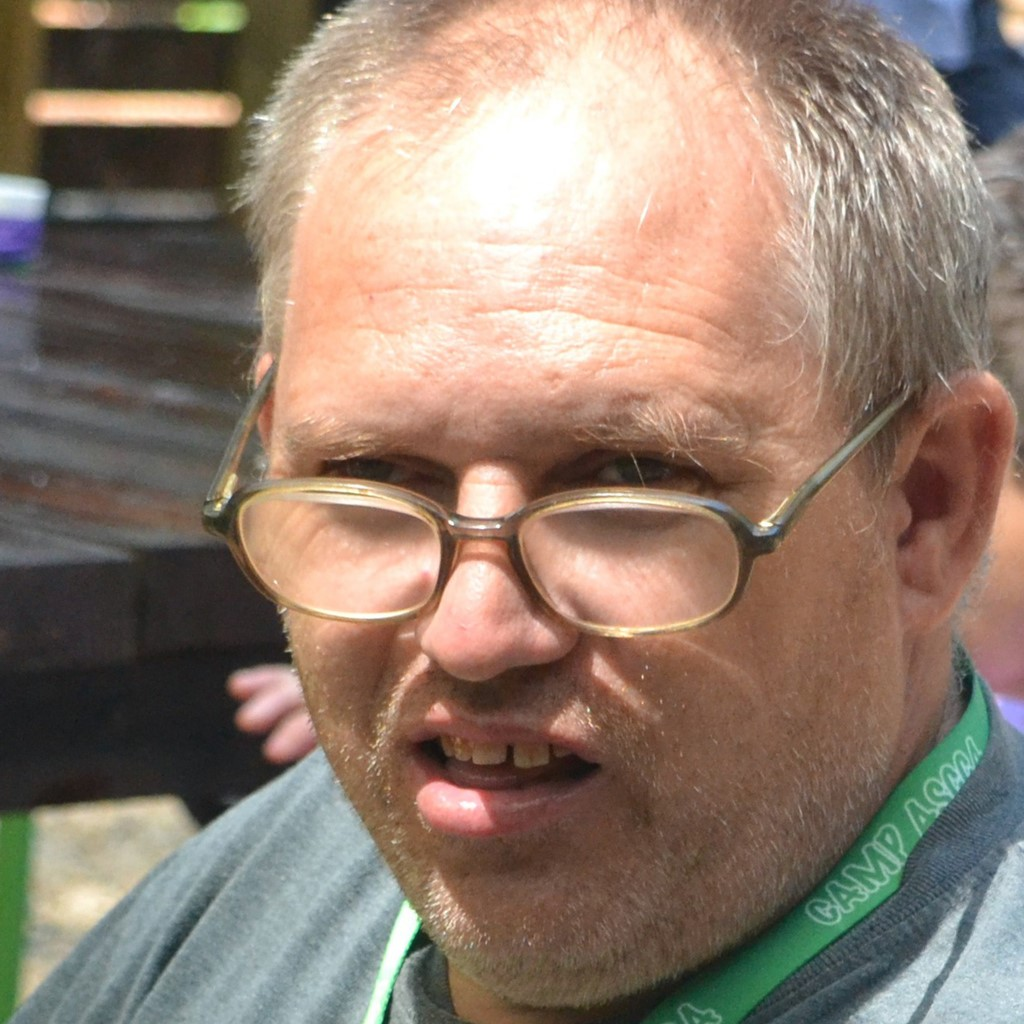sin_mascara: (234, 70, 927, 999)
